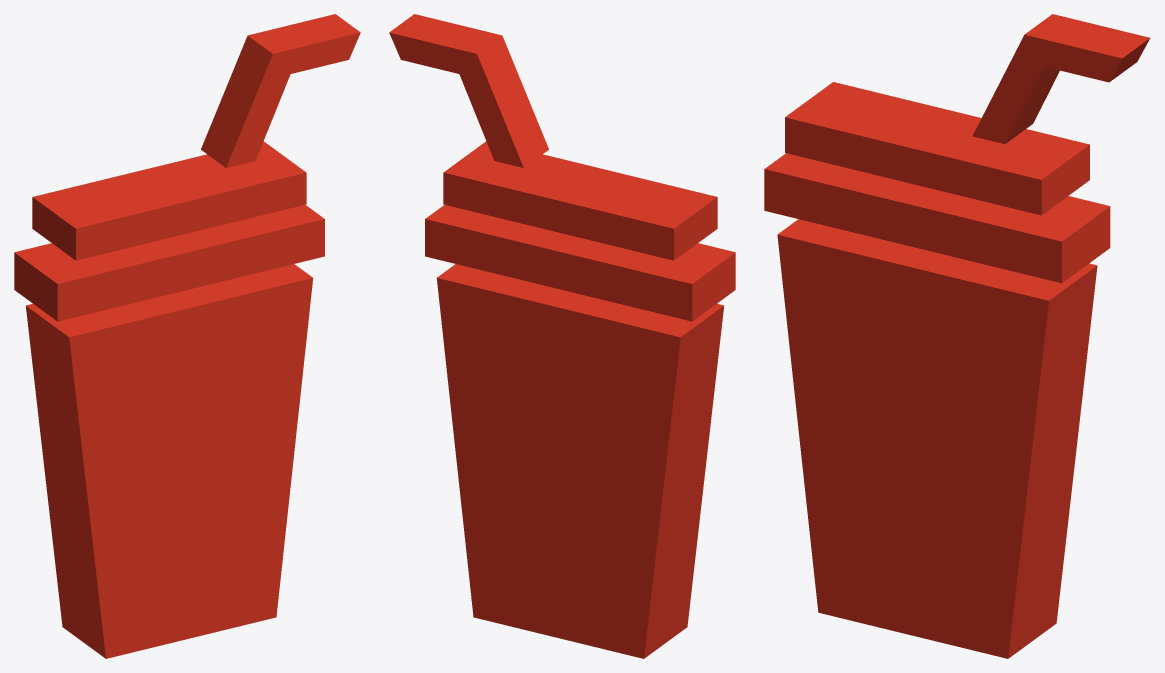
File: Icon_Glass_05.fbx
3 renders of one model, left to right at view 1: azimuth 30°, elevation 25°; view 2: azimuth 150°, elevation 25°; view 3: azimuth 330°, elevation 25°, orthographic. The views are drawn at different scales.
Parts seen in each view (by area): view 1: Icon_Glass_05; view 2: Icon_Glass_05; view 3: Icon_Glass_05.
Boxes of the visible parts, left/top/right/bottom form: Icon_Glass_05: left=14, top=14, right=360, bottom=658; Icon_Glass_05: left=389, top=14, right=735, bottom=658; Icon_Glass_05: left=764, top=14, right=1150, bottom=658.
Size of the model in its own units: 49.98 by 84.95 by 12.06.
